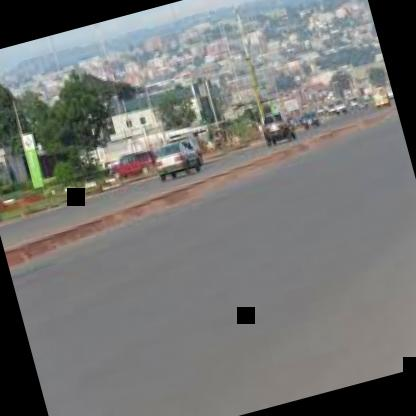car: (140, 127, 218, 206), (84, 131, 167, 190), (254, 106, 302, 152), (296, 100, 323, 134)
